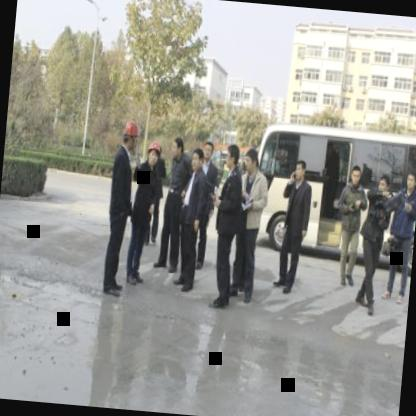head: (223, 140, 242, 172), (243, 144, 261, 175), (171, 133, 188, 160), (294, 156, 310, 184), (190, 145, 206, 173), (349, 162, 364, 190), (202, 136, 218, 162), (377, 173, 392, 200), (405, 167, 416, 192)
helmet: (120, 117, 141, 153), (143, 136, 165, 166)
